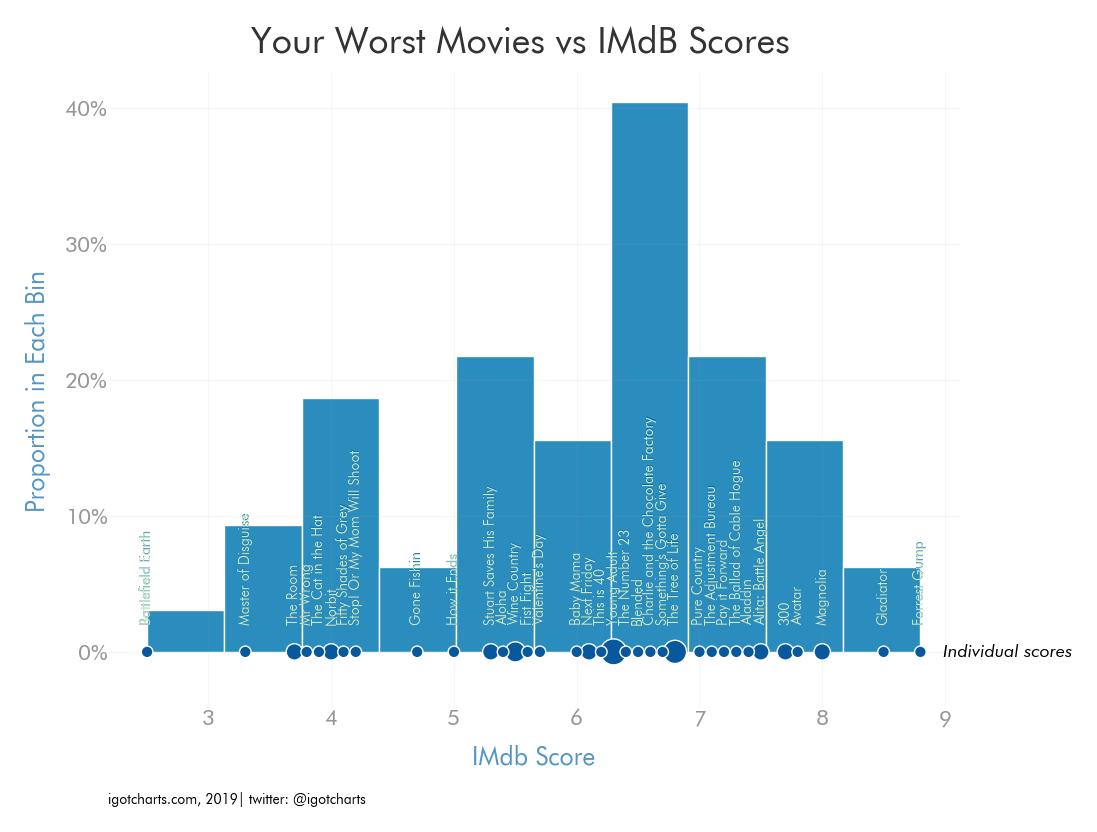

This screenshot's page, from the dashboard's own definition file:
{"tool":"tableau","page":{"name":"Dashboard 1","canvas":[1000,700],"ordinal":0},"visuals":[{"type":"worksheet","title":"Sheet 1","mark":"Shape","rows":["Function"],"cols":["Chart Type"],"box":[7,10,934,584]},{"type":"worksheet","title":"column totals","mark":"Automatic","cols":["Chart Type"],"box":[166,608,777,31]}]}

Visuals, with their boxes on the page's 1000x700 design canvas (x1, y1, x2, y2). These are canvas units, not pixel positions in the 1097x832 screenshot, which may show the page scaled, cropped or inside an application window:
"Sheet 1" worksheet (Shape marks): [x1=7, y1=10, x2=941, y2=594]
"column totals" worksheet: [x1=166, y1=608, x2=943, y2=639]
